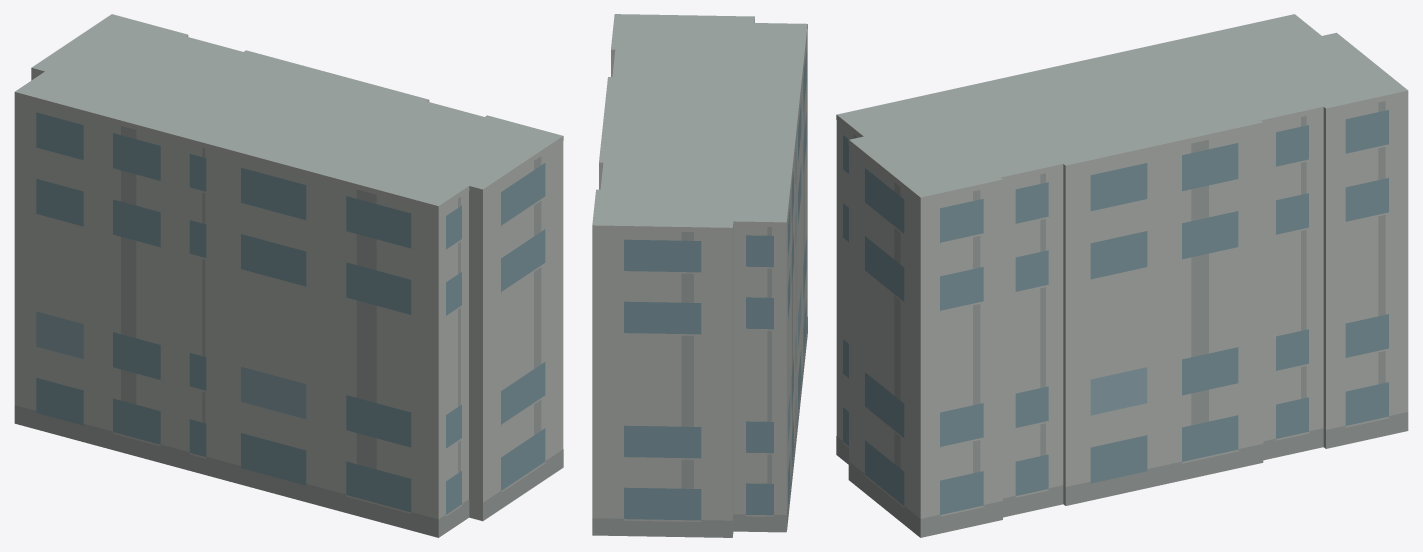
The model's file is survey-upis-32616063.glb.
The picture shows the model from 3 angles, left to right: view 1: azimuth 30°, elevation 25°; view 2: azimuth 150°, elevation 25°; view 3: azimuth 270°, elevation 25°; orthographic projection. The views are drawn at different scales.
Visible parts, largest first — view 1: survey-upis-32616063.tmp; view 2: survey-upis-32616063.tmp; view 3: survey-upis-32616063.tmp.
Part boxes in pixels (left/top/right/bottom): survey-upis-32616063.tmp: left=14, top=14, right=563, bottom=537; survey-upis-32616063.tmp: left=592, top=14, right=807, bottom=537; survey-upis-32616063.tmp: left=836, top=14, right=1408, bottom=537.
Bounding box in the file's own units: 17.59 × 15.2 × 23.15.
